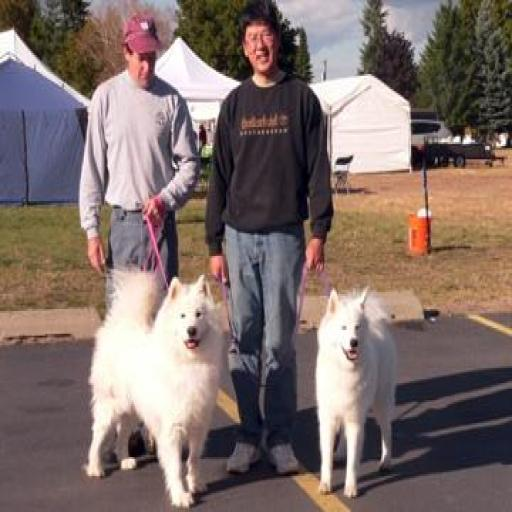dog_face: (326, 281, 371, 379), (169, 272, 214, 365)
